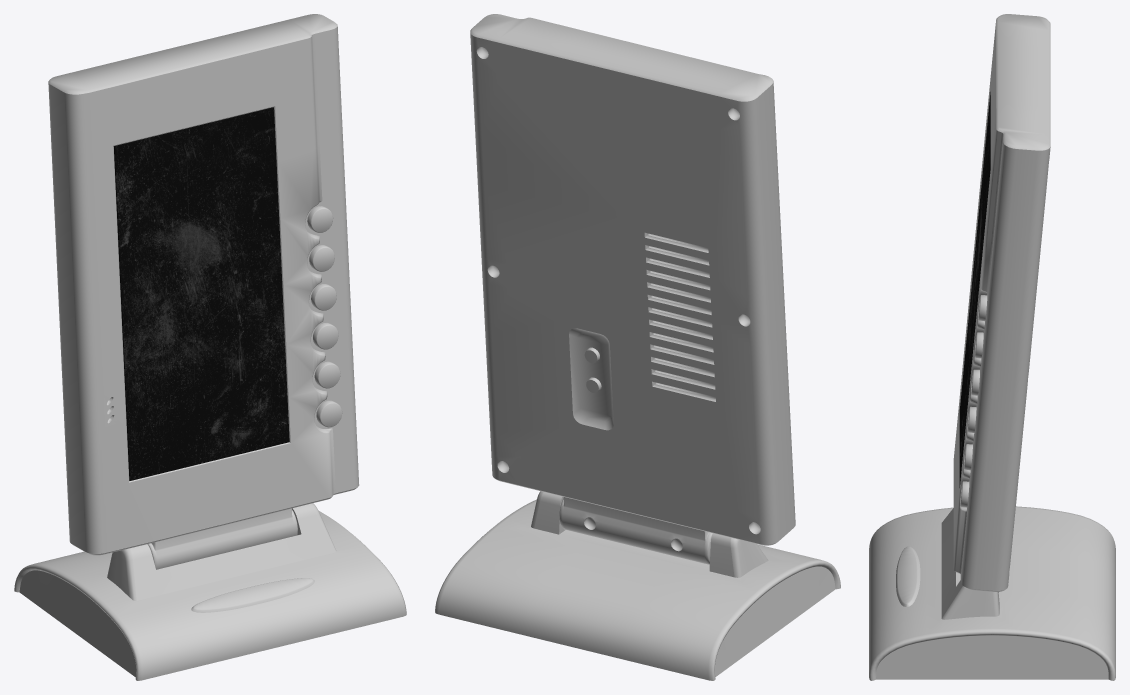
The model's file is WeatherStation.fbx.
3 views of the same model, side by side, from view 1: azimuth 30°, elevation 25°; view 2: azimuth 150°, elevation 25°; view 3: azimuth 270°, elevation 25° (orthographic). The views are drawn at different scales.
Parts seen in each view (by area): view 1: WeatherStat, WeatherStat_Glass; view 2: WeatherStat; view 3: WeatherStat, WeatherStat_Glass.
Boxes of the visible parts, x1=… form: WeatherStat: x1=14, y1=14, x2=406, y2=680; WeatherStat_Glass: x1=113, y1=107, x2=289, y2=480; WeatherStat: x1=435, y1=14, x2=840, y2=680; WeatherStat: x1=869, y1=14, x2=1115, y2=680; WeatherStat_Glass: x1=959, y1=92, x2=990, y2=487.
Bounding box in the file's own units: 11.55 × 21.72 × 9.03.
